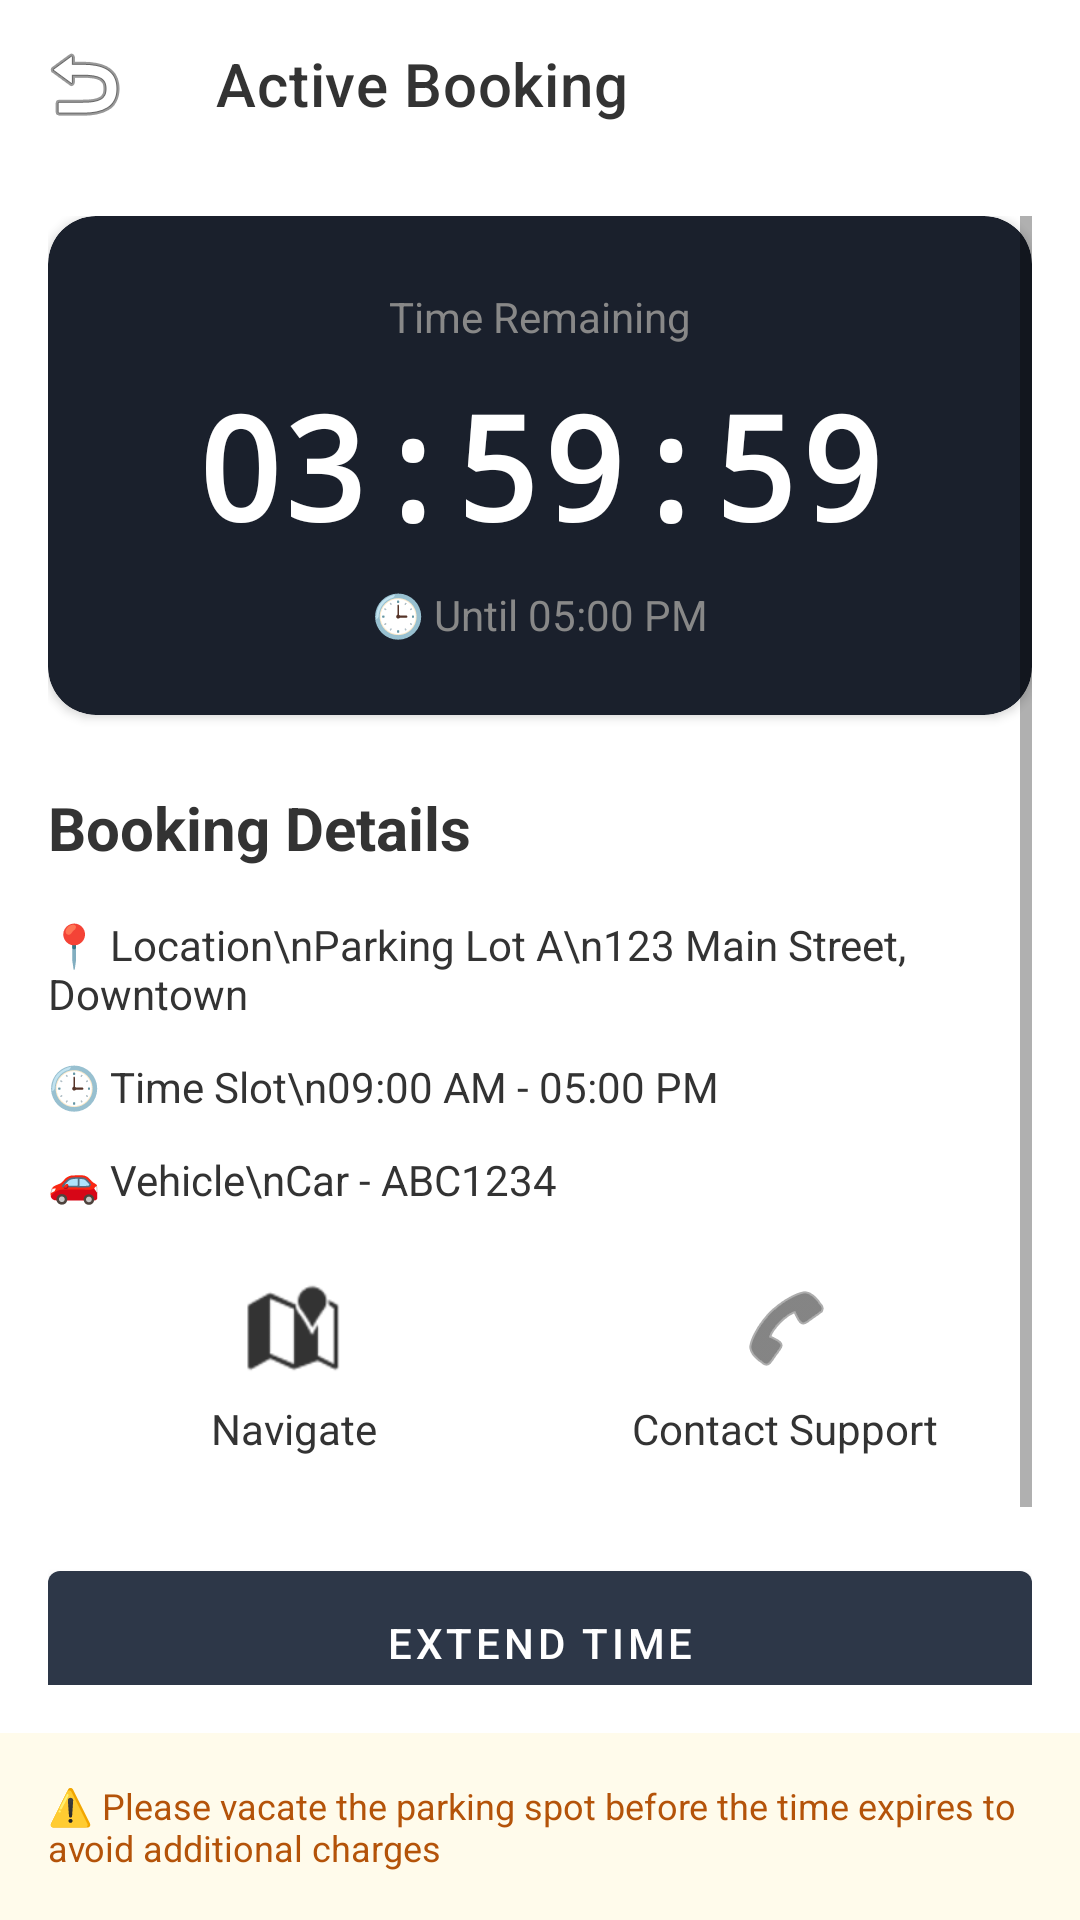

Screen size 1080 x 1920. Icon name, then its center in pixels as [x,y]:
call: [786,1328]
map: [293,1328]
